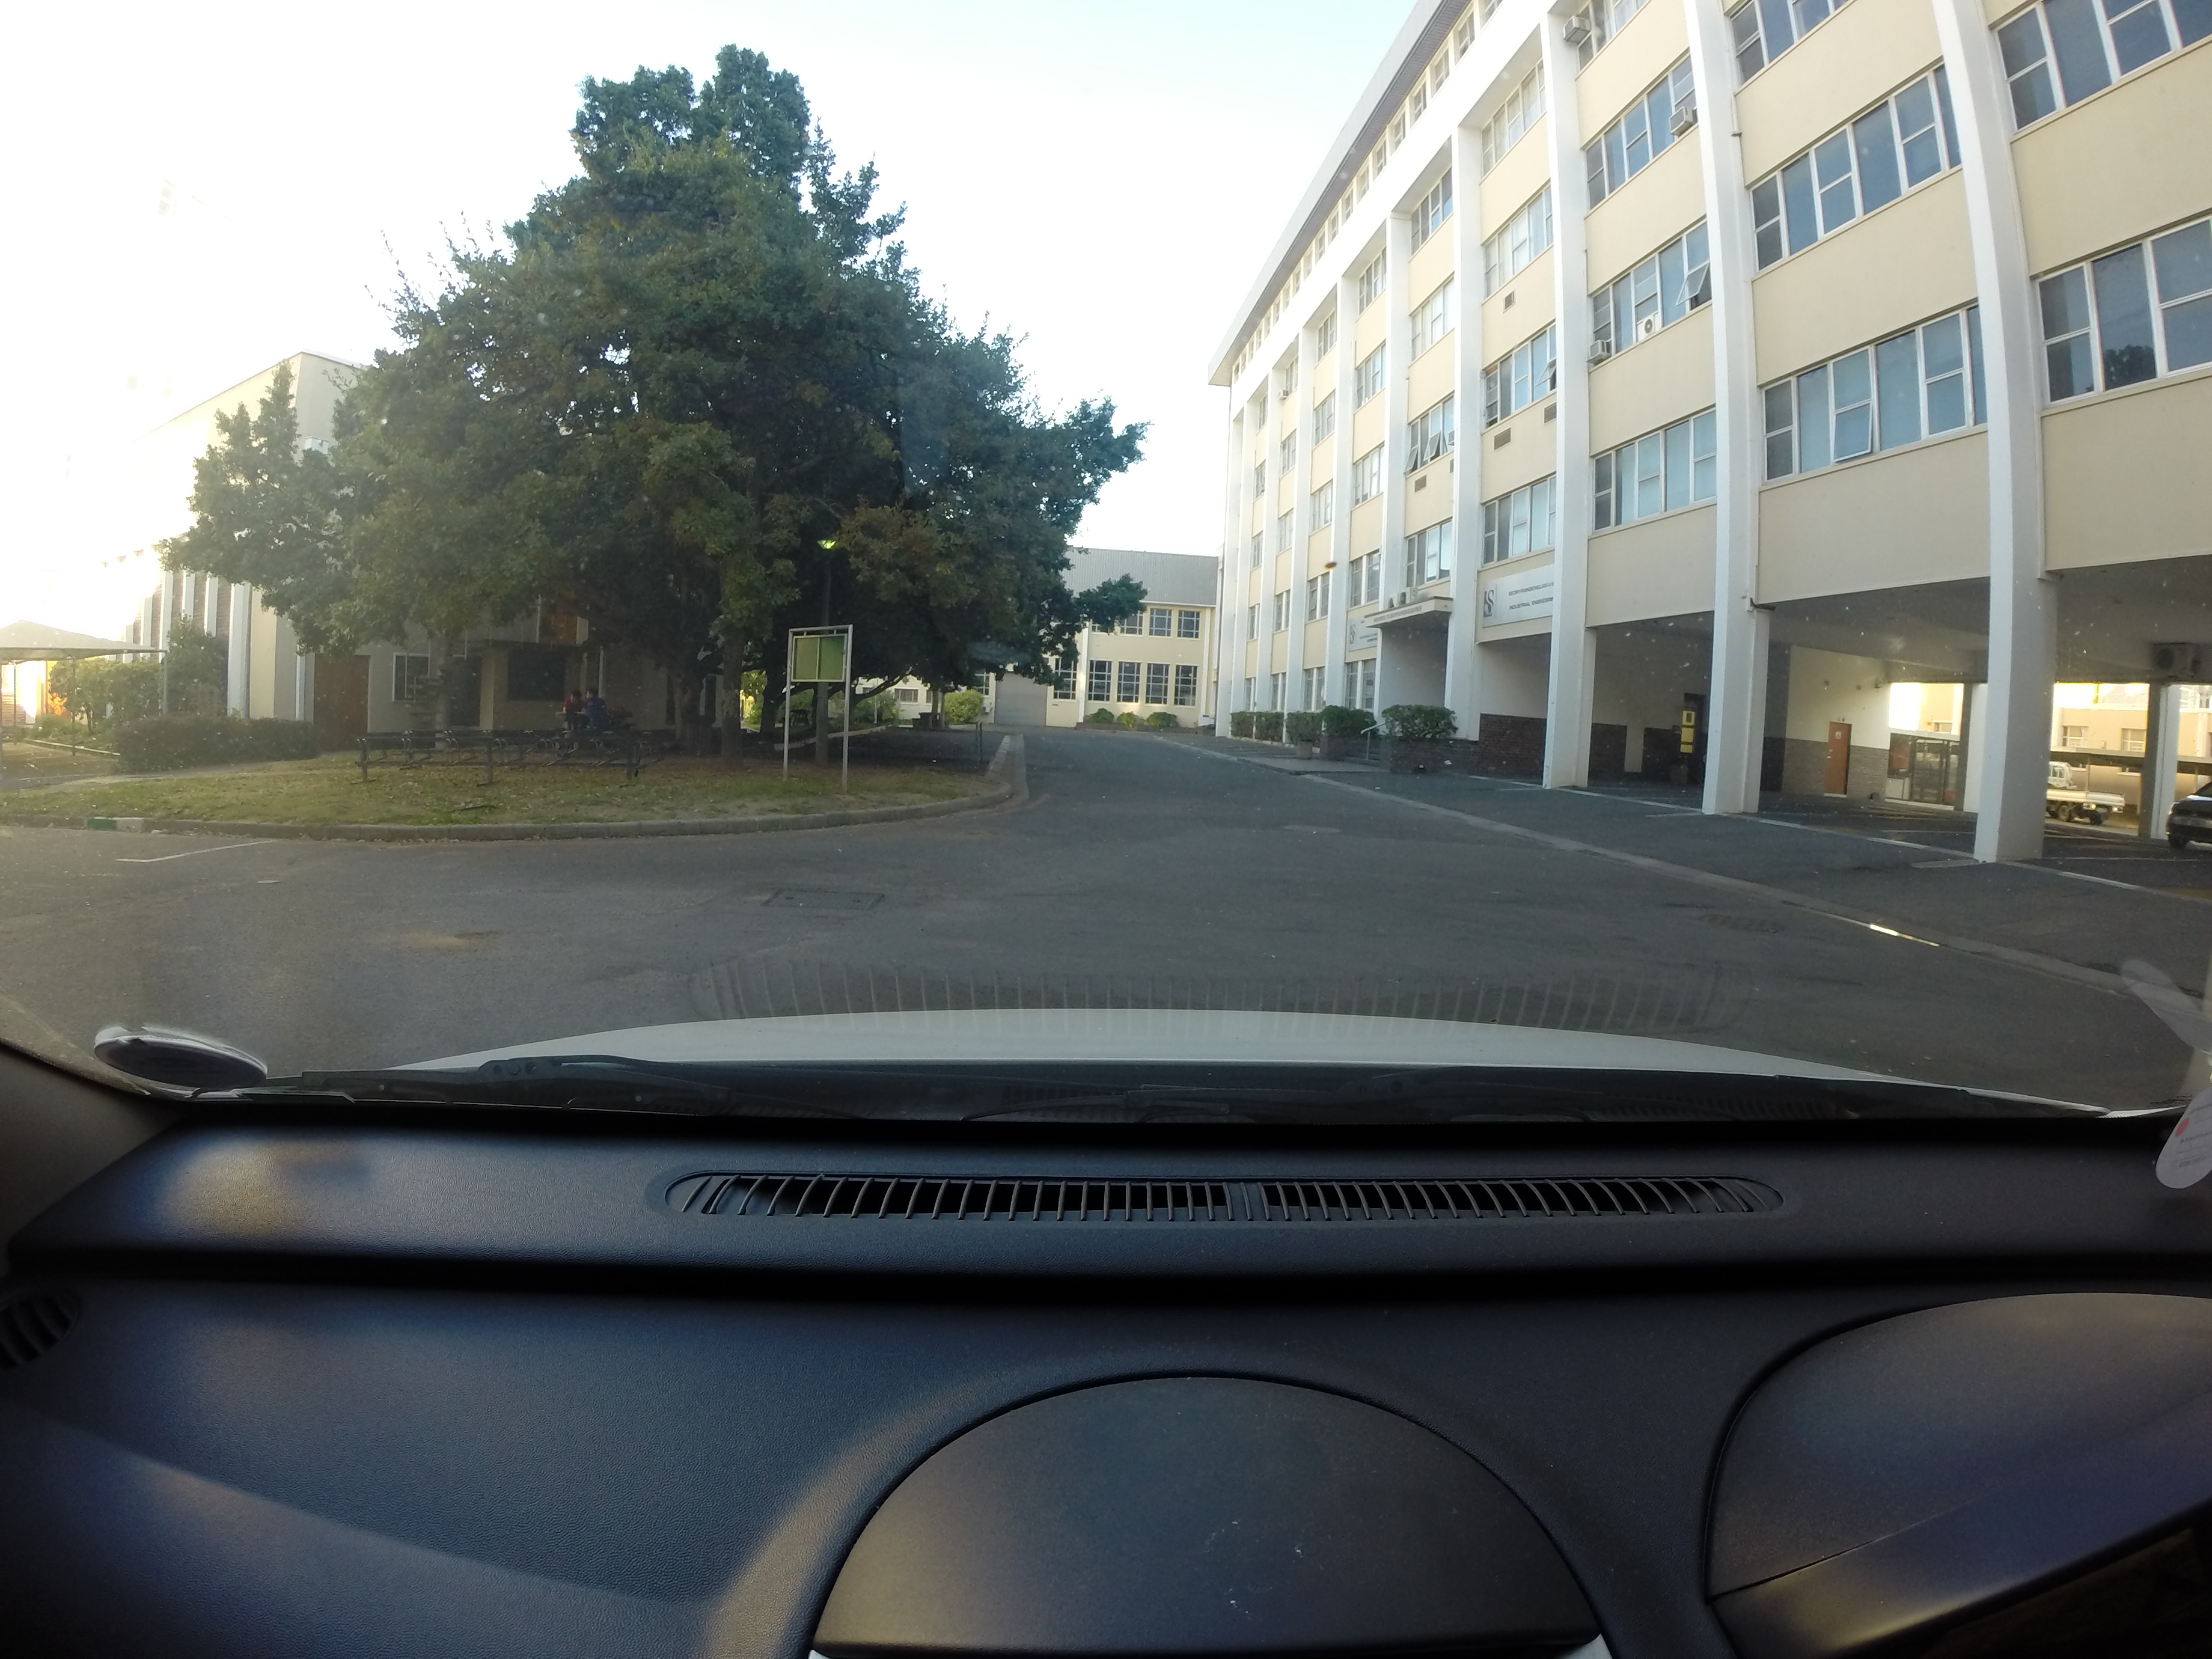pothole: (448, 918, 510, 946)
